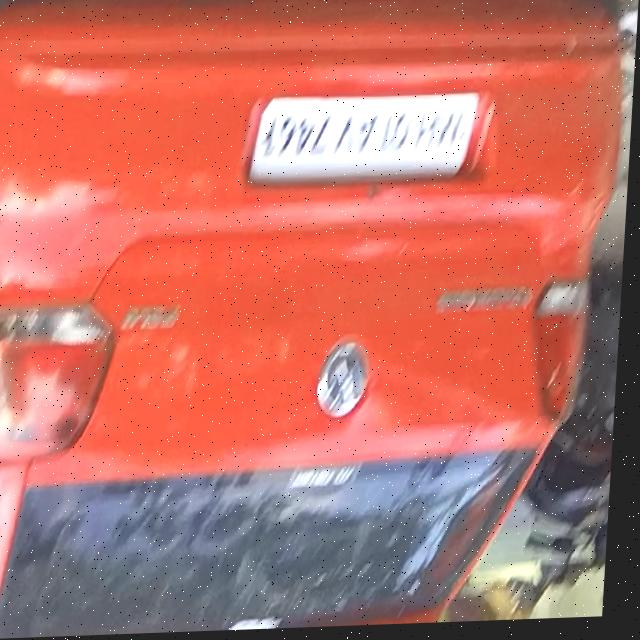plate: (250, 93, 484, 192)
